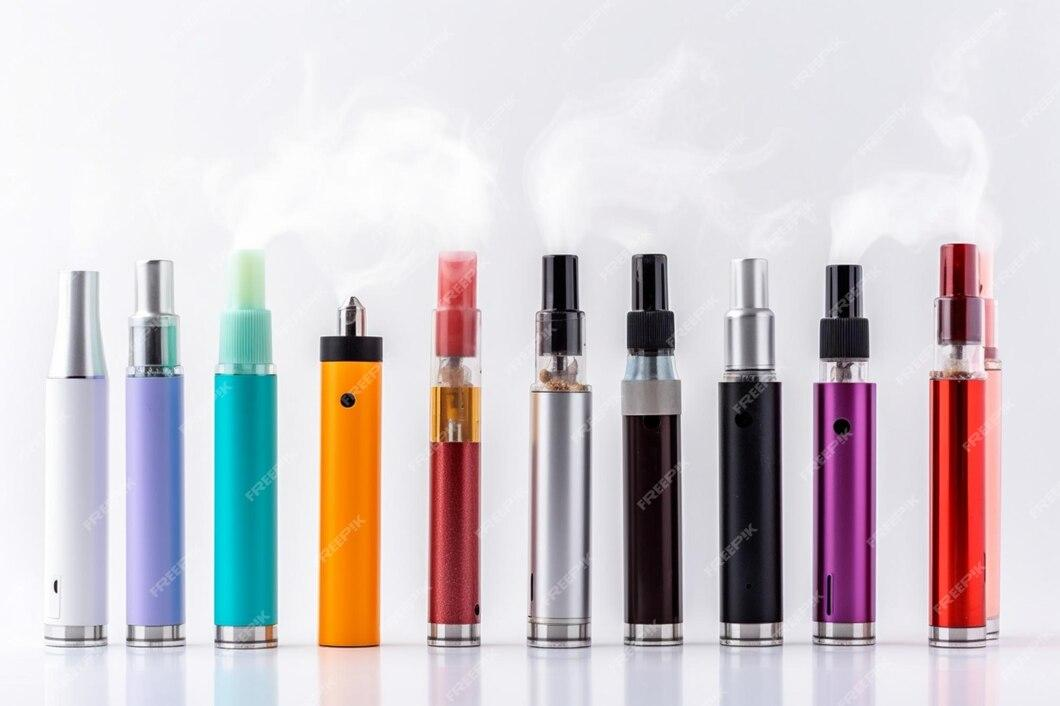Vape: (214, 251, 277, 646), (528, 254, 591, 647), (718, 259, 782, 645), (43, 270, 108, 647), (621, 254, 682, 644), (813, 265, 875, 644), (125, 261, 185, 646), (929, 243, 986, 645), (317, 297, 382, 646), (428, 252, 480, 645)
